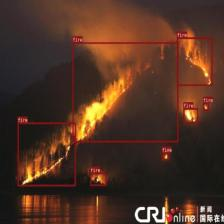fire: (72, 42, 178, 142), (17, 122, 76, 186), (176, 37, 212, 85), (183, 108, 198, 123), (90, 172, 106, 186), (202, 102, 209, 111), (162, 152, 168, 160)
